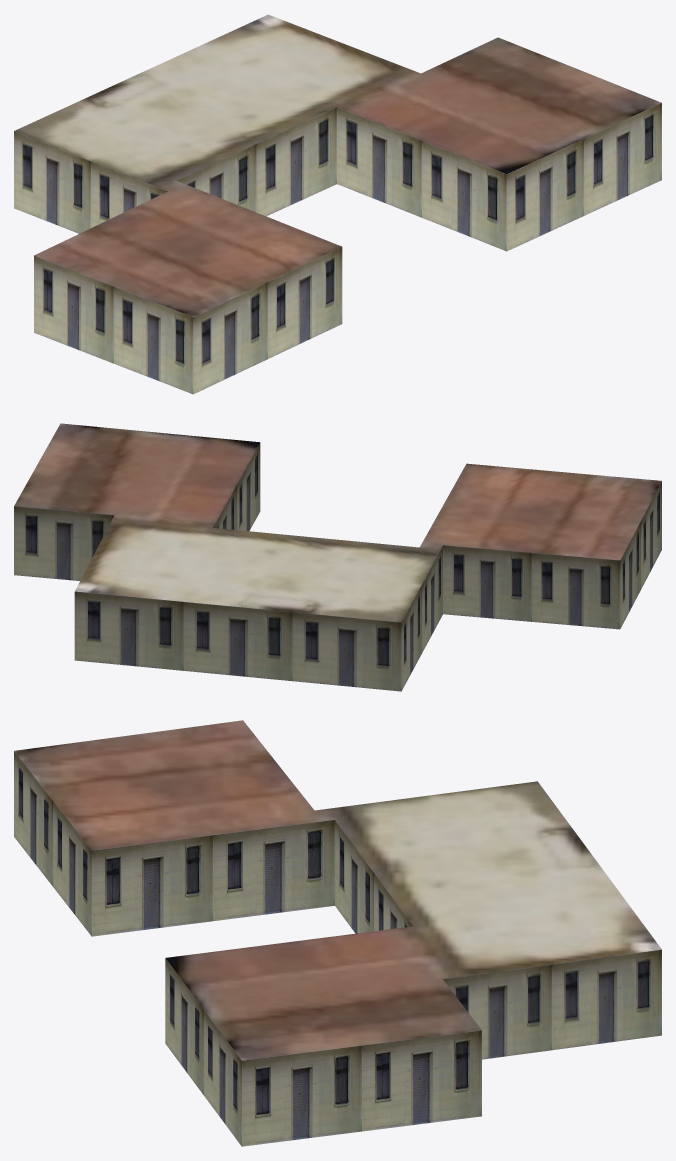
Rendered from T_1SXHG4NVX3.dae.
3 views of the same model, one above another, from view 1: azimuth 30°, elevation 25°; view 2: azimuth 150°, elevation 25°; view 3: azimuth 270°, elevation 25° (orthographic). The views are drawn at different scales.
Parts seen in each view (by area): view 1: SketchUp (×7); view 2: SketchUp (×7); view 3: SketchUp (×7).
Part boxes in pixels (x1,y1,x2,y2): SketchUp (×7): [14, 14, 661, 394]; SketchUp (×7): [14, 423, 661, 691]; SketchUp (×7): [14, 720, 661, 1146].
Bounding box in the file's own units: 34.06 × 27.4 × 4.01.
Materials: 2 (2 with a texture image).
